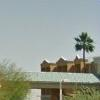Palm tree: (66, 26, 97, 71)
